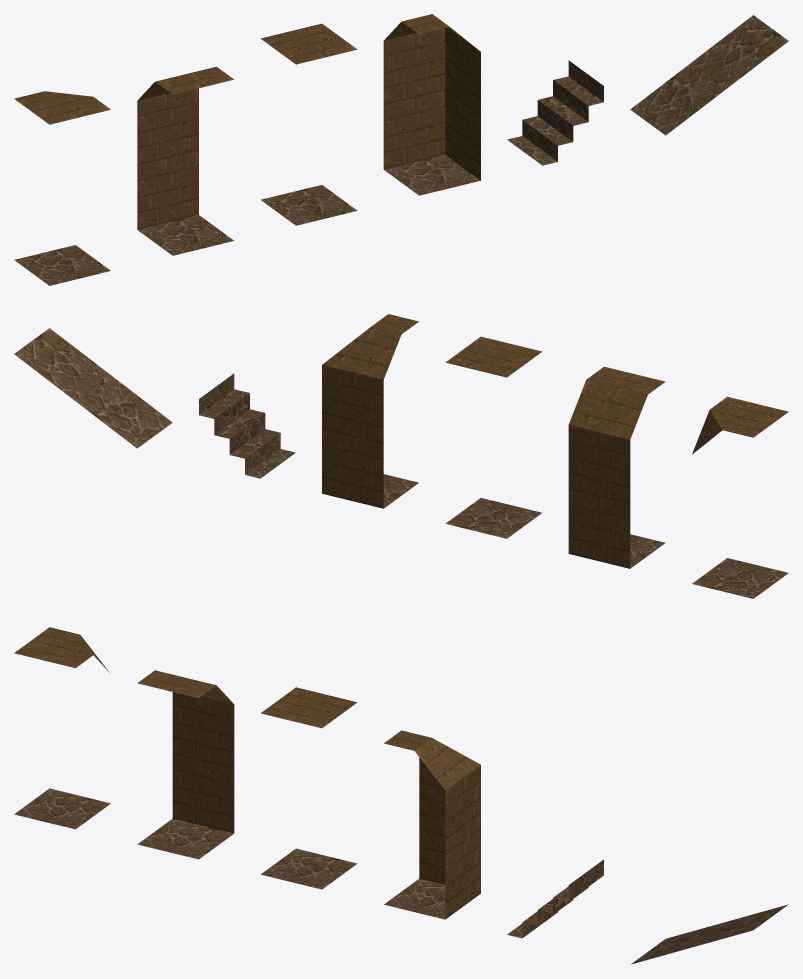
The model's file is tileset_dungeon2.glb.
3 renders of one model, top to bottom at view 1: azimuth 30°, elevation 25°; view 2: azimuth 150°, elevation 25°; view 3: azimuth 330°, elevation 25°, orthographic.
Parts seen in each view (by area): view 1: corner-in-col, wall-col, plane-col, stair-col, floor-col, corner-out-col; view 2: wall-col, corner-in-col, plane-col, corner-out-col, stair-col, floor-col; view 3: wall-col, corner-in-col, floor-col, corner-out-col, plane-col, stair-col.
Boxes of the visible parts, x1,y1,x2,y2 form: corner-in-col: [383, 14, 480, 195]; wall-col: [137, 66, 233, 255]; plane-col: [630, 15, 788, 135]; stair-col: [507, 60, 603, 165]; floor-col: [260, 23, 357, 225]; corner-out-col: [14, 91, 110, 285]; wall-col: [568, 366, 665, 568]; corner-in-col: [322, 314, 418, 508]; plane-col: [14, 328, 172, 448]; corner-out-col: [692, 396, 788, 598]; stair-col: [199, 373, 295, 478]; floor-col: [445, 336, 541, 538]; wall-col: [137, 670, 234, 859]; corner-in-col: [384, 730, 480, 919]; floor-col: [261, 687, 357, 889]; corner-out-col: [14, 627, 110, 829]; plane-col: [631, 904, 788, 964]; stair-col: [507, 859, 603, 938].
Bounding box in the file's own units: 12 × 2.5 × 1.
2 materials, 2 textured.
